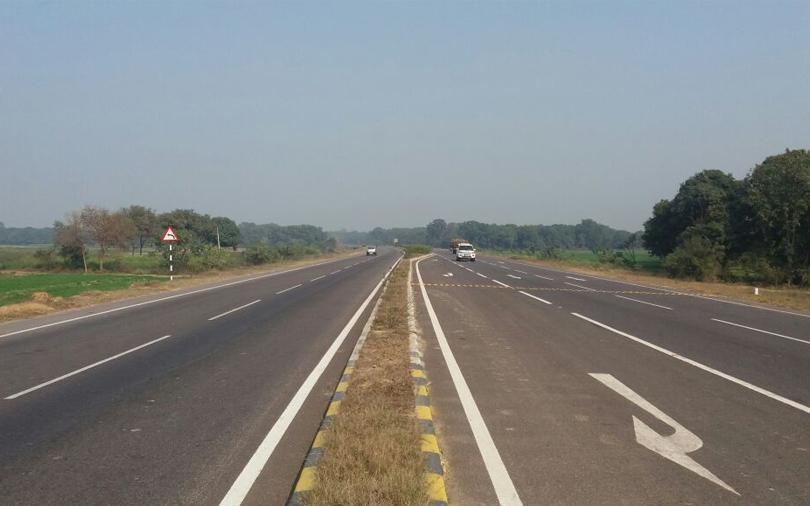car: (446, 241, 478, 265)
